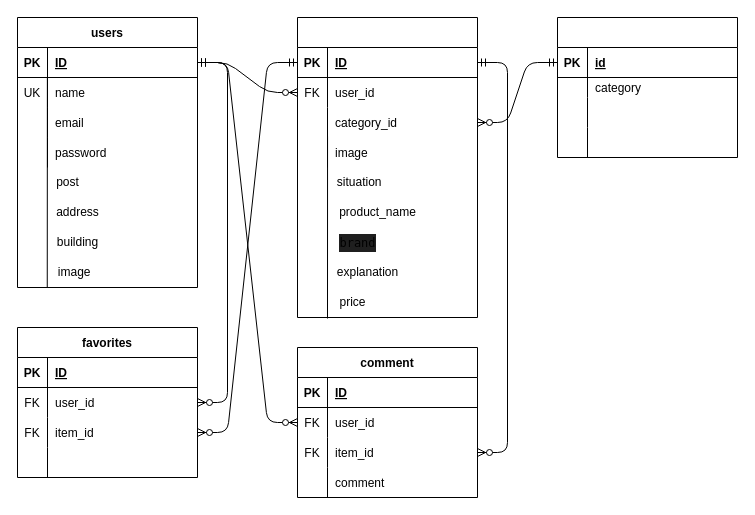
This 755x515 diagram has some shape labels left out. The box of each missing label's shape, as (x1, y1, x2, y2) in pixels:
categories: (556, 16, 738, 158)
items: (296, 16, 478, 318)
